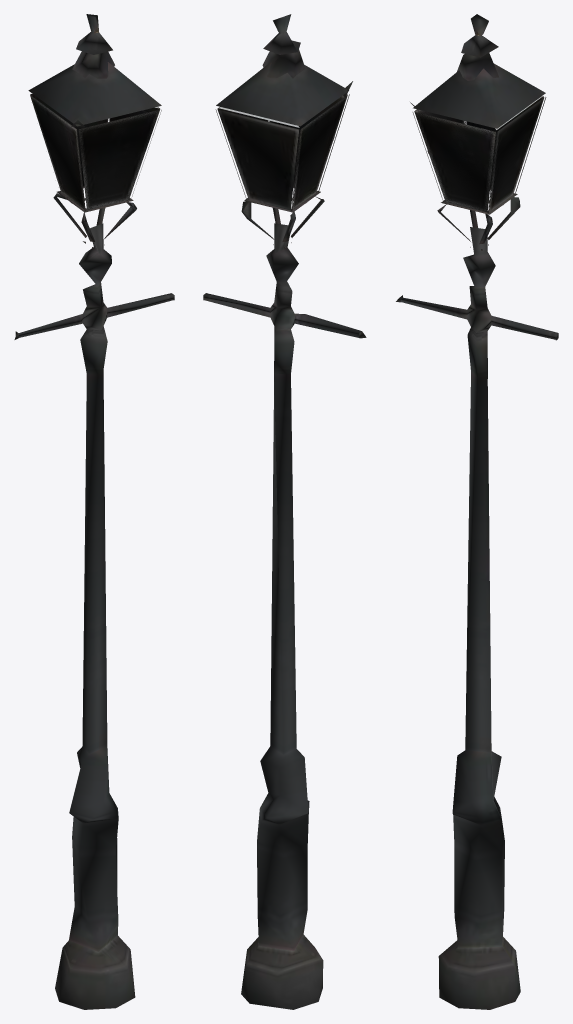
3 renders of one model, left to right at view 1: azimuth 30°, elevation 25°; view 2: azimuth 150°, elevation 25°; view 3: azimuth 330°, elevation 25°, orthographic.
Visible parts, largest first — view 1: street_lamp_01; view 2: street_lamp_01; view 3: street_lamp_01.
Part boxes in pixels (left/top/right/bottom): street_lamp_01: left=14, top=14, right=174, bottom=1009; street_lamp_01: left=203, top=14, right=366, bottom=1009; street_lamp_01: left=396, top=14, right=558, bottom=1009.
Bounding box in the file's own units: 0.661 × 3.85 × 0.3686.
3 materials, 3 textured.
